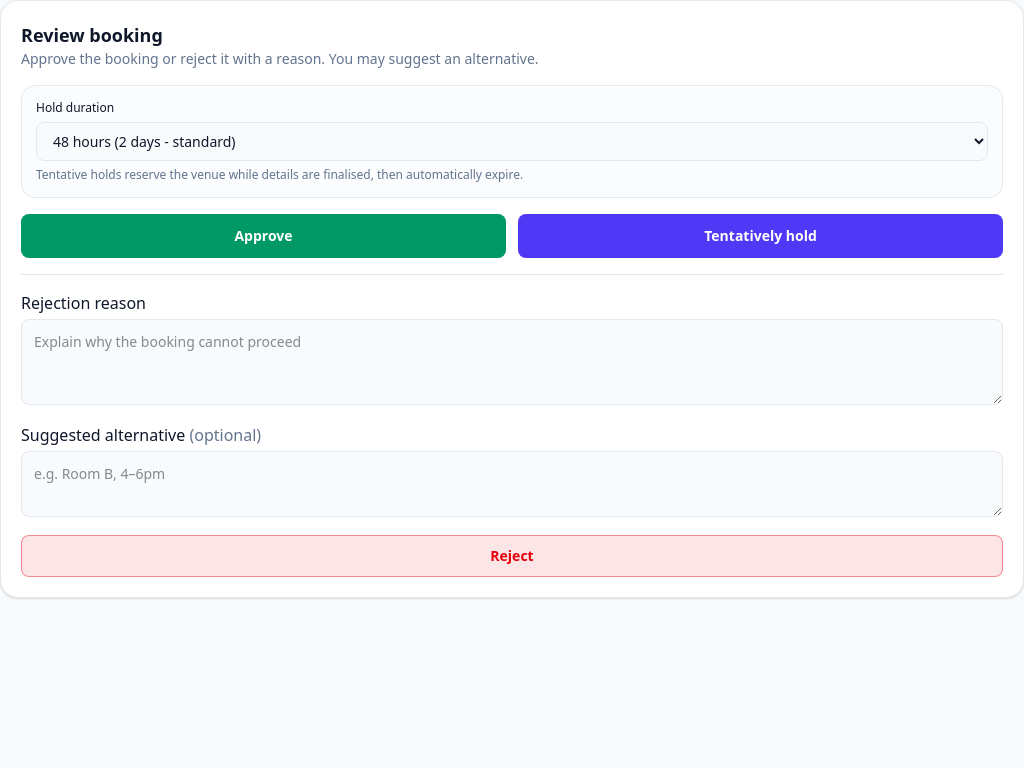
Test case: booking decision failure does not report a saved change: {"status":409,"fields":{}}
Click the button "Approve".
click(264, 236)  # box x1=21 y1=214 x2=506 y2=258
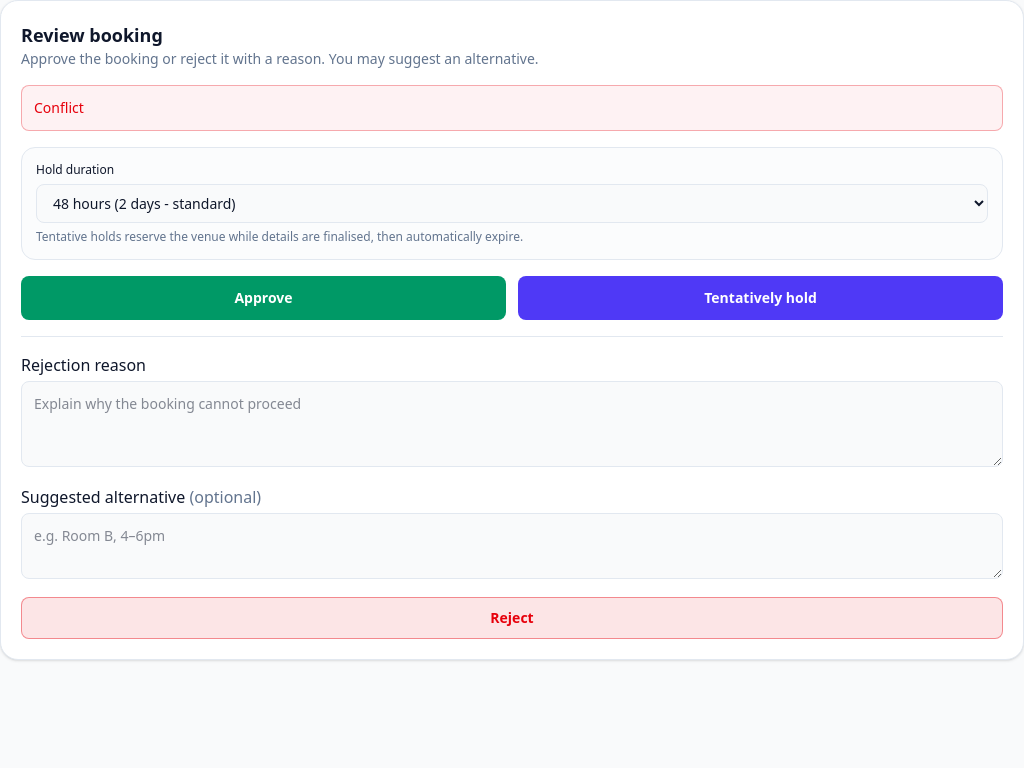
Expected: the message reads "Conflict", x1=34 y1=98 x2=84 y2=117
